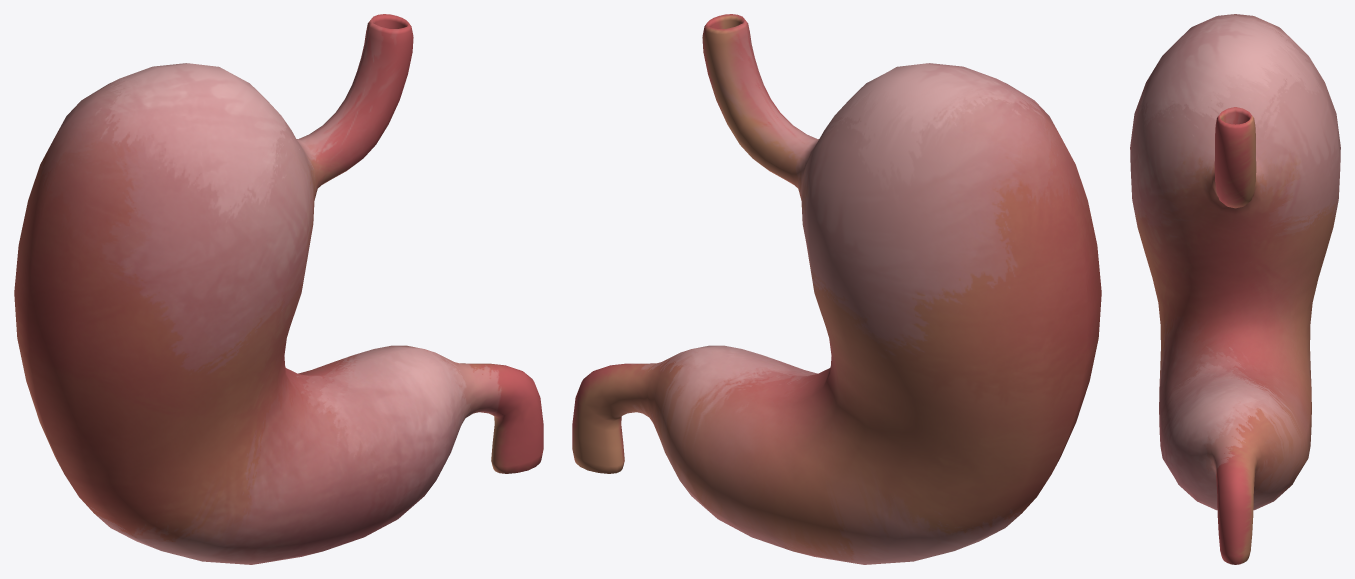
Rendered from estomac_V2.fbx.
The picture shows the model from 3 angles, left to right: view 1: azimuth 30°, elevation 25°; view 2: azimuth 150°, elevation 25°; view 3: azimuth 270°, elevation 25°; orthographic projection. The views are drawn at different scales.
Parts seen in each view (by area): view 1: estomac_01; view 2: estomac_01; view 3: estomac_01.
Boxes of the visible parts, box(x1,y1,x2,y2) form: estomac_01: box(14, 14, 543, 564); estomac_01: box(572, 14, 1101, 564); estomac_01: box(1130, 14, 1340, 564).
Size of the model in its own units: 2.89 by 2.73 by 1.25.
